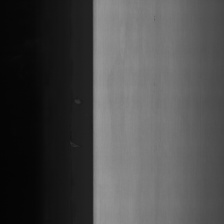inclusion: (153, 13, 156, 22)
